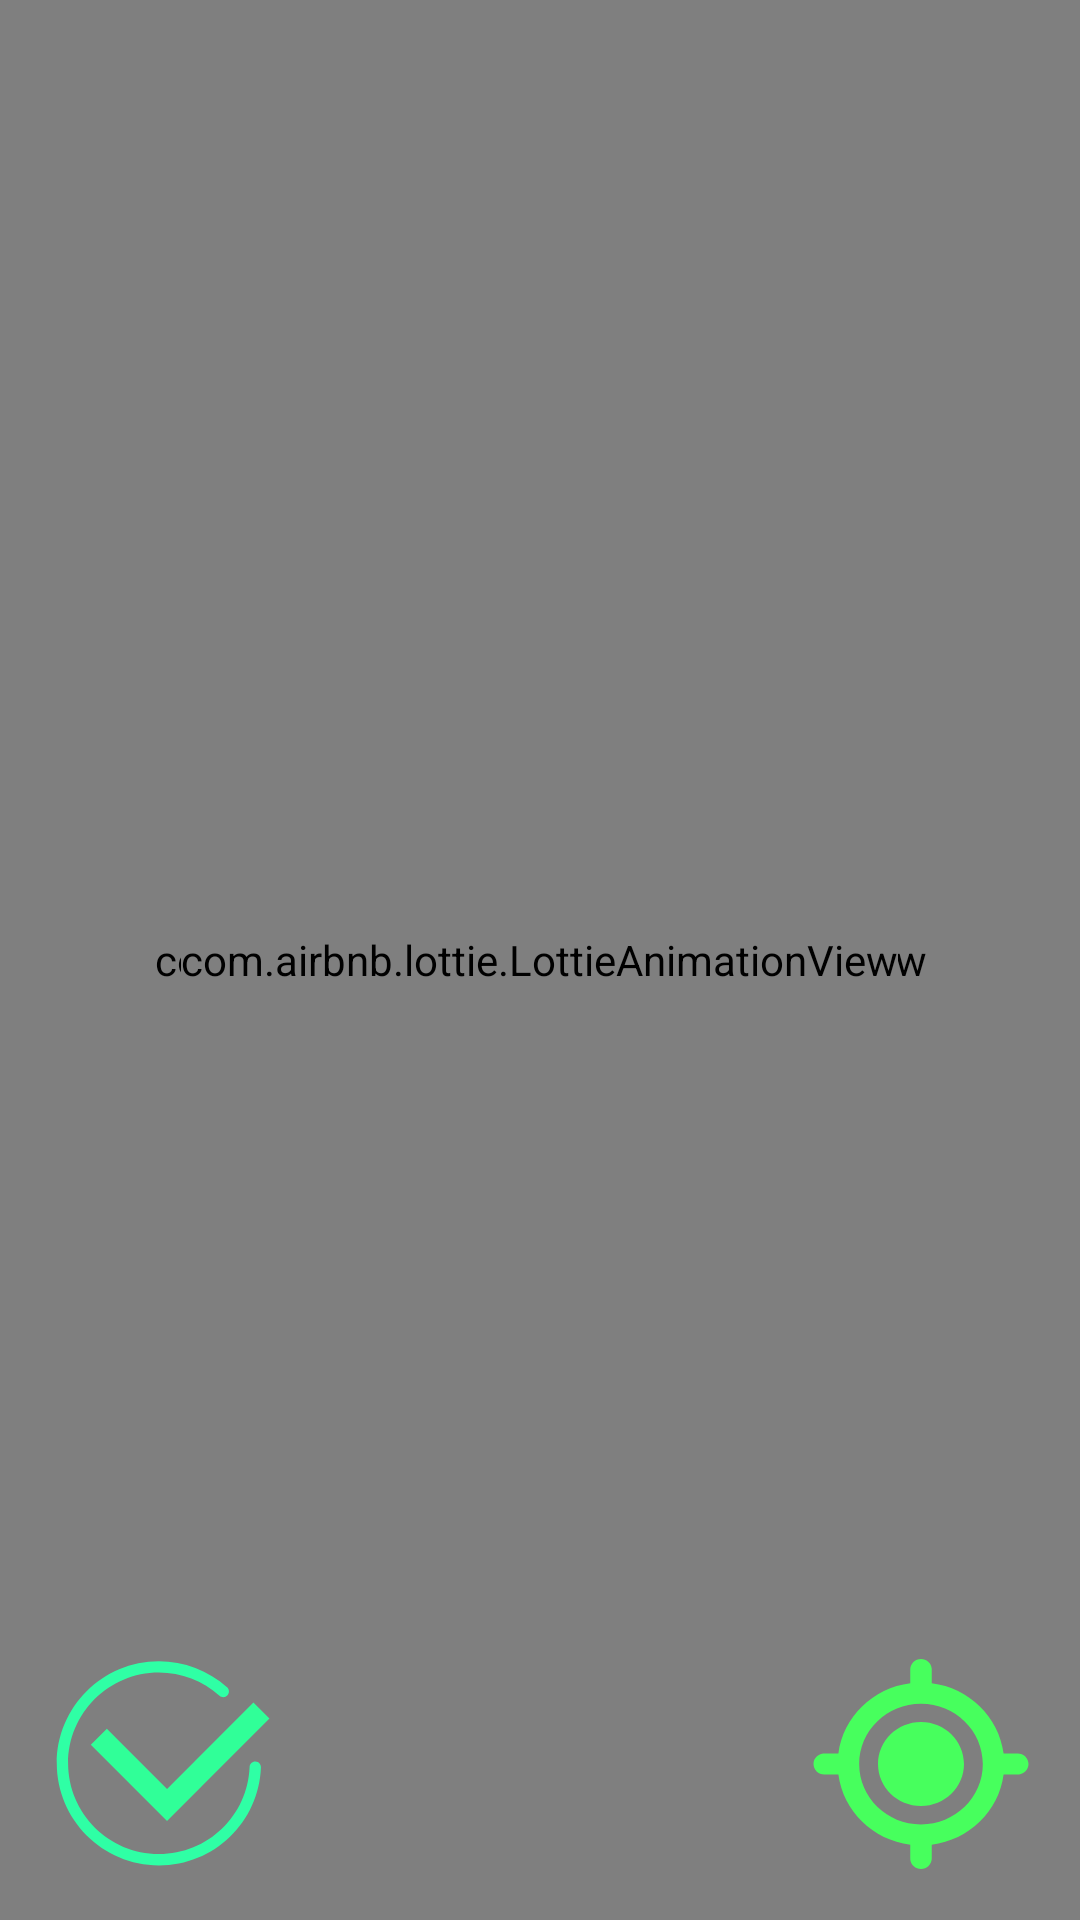

Icon click points for this 1080px×1920px phone screenshot, format (x=x, y=y):
confirm: (x=163, y=1763)
location: (x=921, y=1764)
